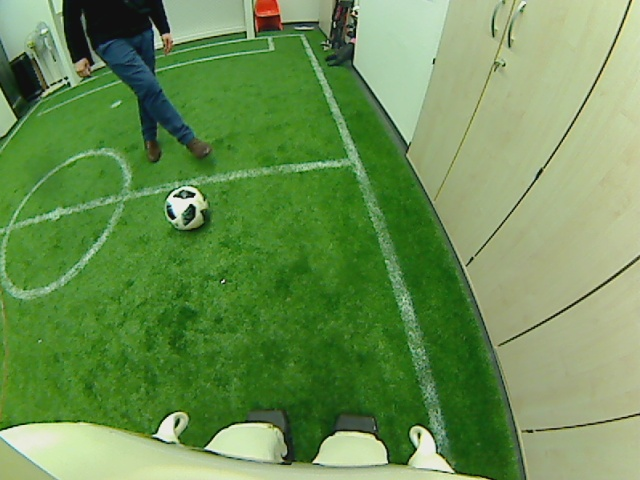ball: (164, 183, 207, 232)
